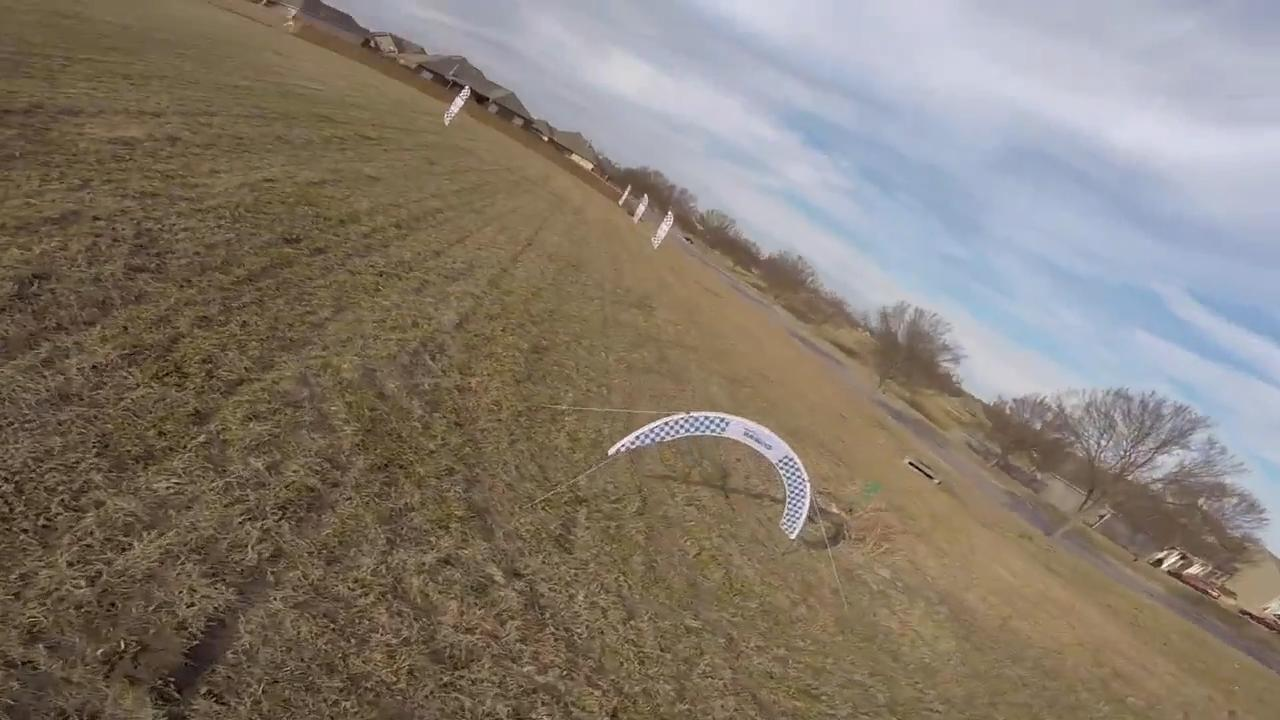gate: (606, 410, 815, 545)
